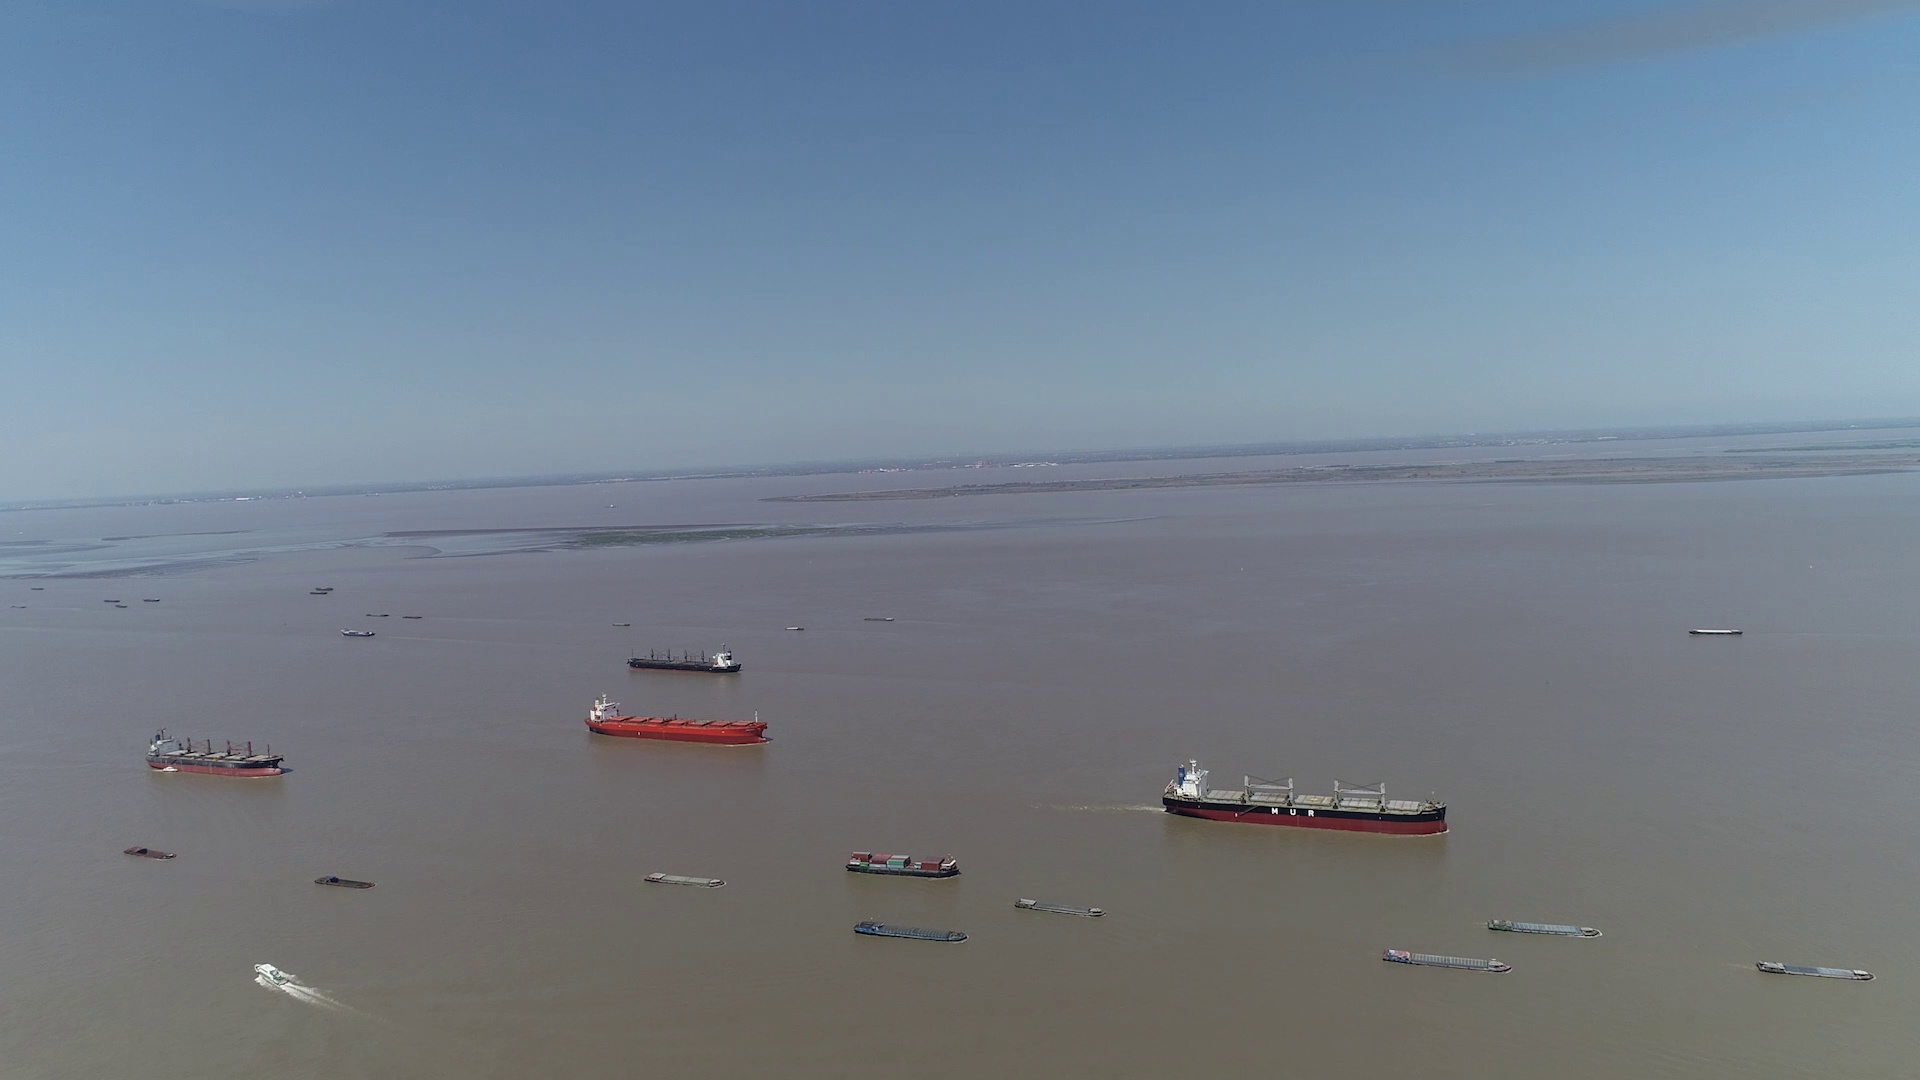ship: (1160, 760, 1448, 836), (585, 696, 769, 746), (150, 727, 286, 775), (626, 644, 742, 673), (1383, 949, 1516, 973), (845, 851, 959, 878), (1754, 957, 1874, 980), (1487, 916, 1600, 938), (855, 920, 967, 942), (1014, 897, 1106, 918), (644, 872, 723, 887), (315, 876, 375, 890), (255, 963, 287, 986), (123, 847, 177, 860), (1691, 626, 1741, 636), (340, 628, 376, 637)
